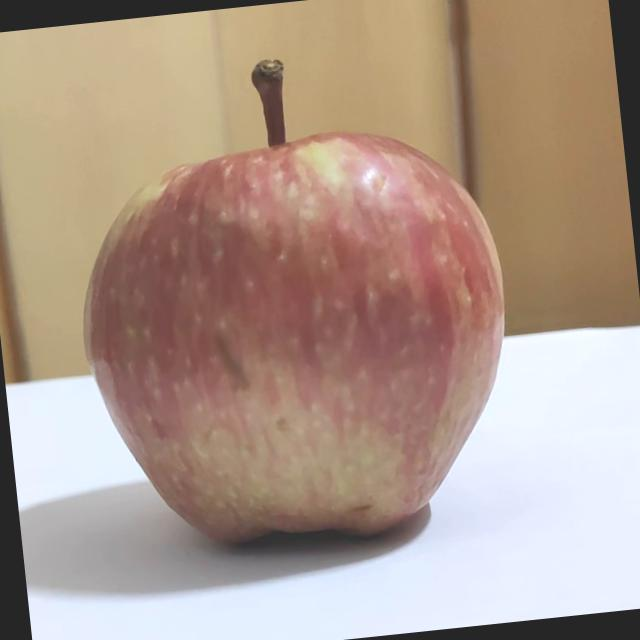apple: (44, 34, 528, 570)
